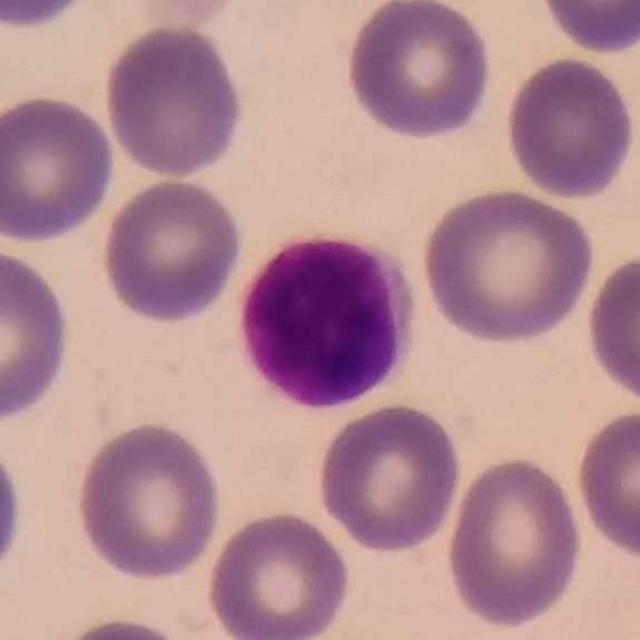Lymphocyte: (229, 226, 424, 415)
RBC: (417, 184, 598, 346), (442, 452, 586, 632), (71, 418, 225, 584), (100, 20, 248, 181), (314, 400, 464, 556), (97, 174, 246, 326), (340, 0, 495, 142), (202, 506, 355, 640), (501, 54, 639, 202), (0, 91, 119, 246), (0, 240, 75, 428), (570, 406, 640, 563), (581, 247, 640, 411), (535, 0, 640, 57), (98, 0, 249, 30), (0, 430, 27, 592), (47, 612, 199, 640), (0, 0, 101, 32)
